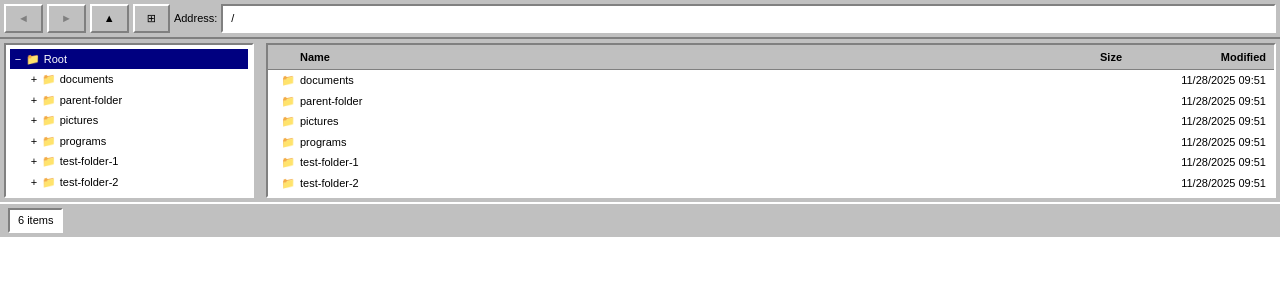
Scenario: Explorer - Folder Tree Expand/Collapse › should expand folder when clicking expand icon
Click the 2nd text "+" at (34, 100), box [31, 94, 37, 106]
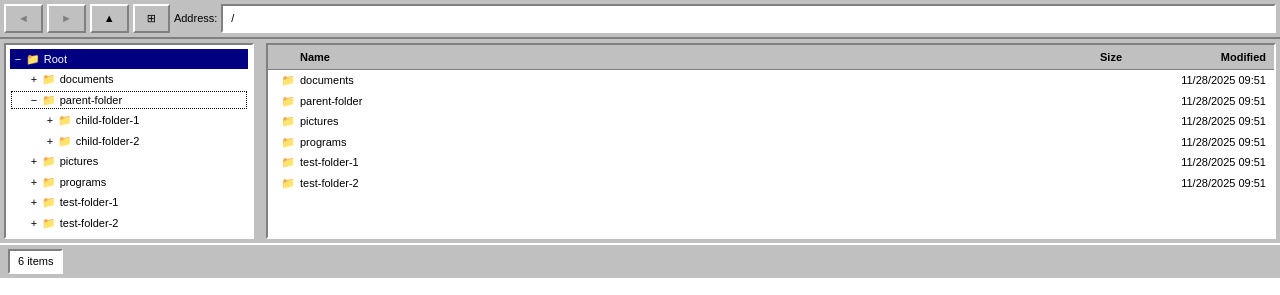
Expected: the text "child-folder-1" is shown, [76, 112, 139, 128]
Expected: the text "child-folder-2" is shown, [76, 132, 139, 149]
